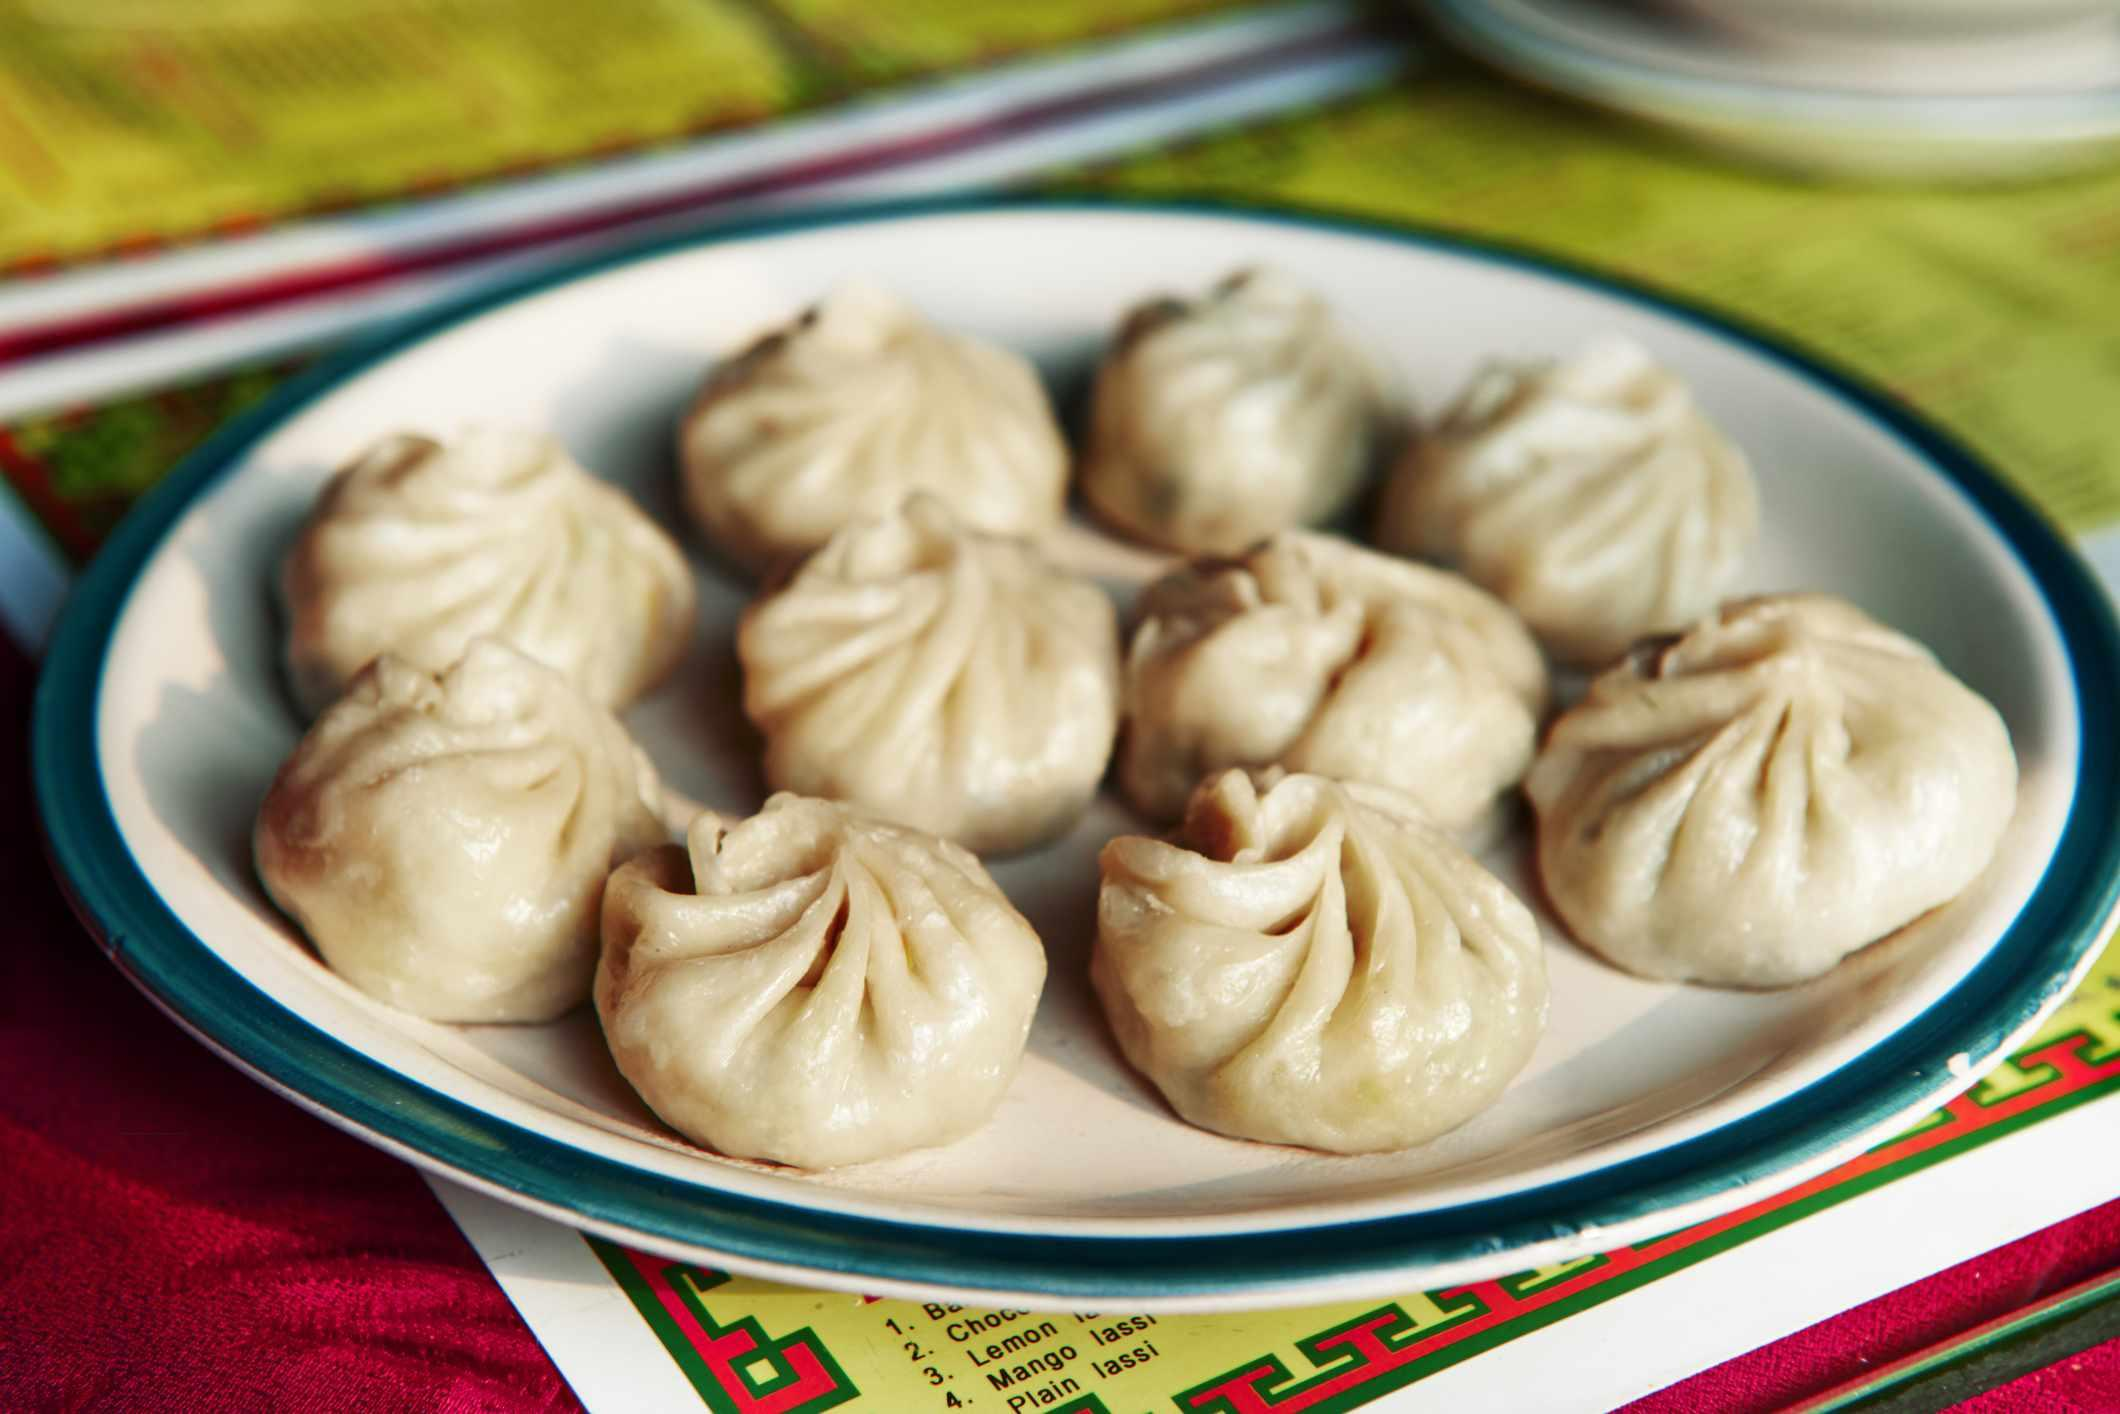momos: (1528, 612, 2016, 988), (1088, 770, 1549, 1150), (596, 791, 1047, 1168), (252, 638, 667, 1023), (737, 492, 1118, 852), (1118, 530, 1549, 832), (1379, 336, 1760, 666), (281, 426, 696, 716), (678, 286, 1068, 571), (1081, 270, 1396, 555), (920, 638, 932, 650), (476, 472, 489, 484)
